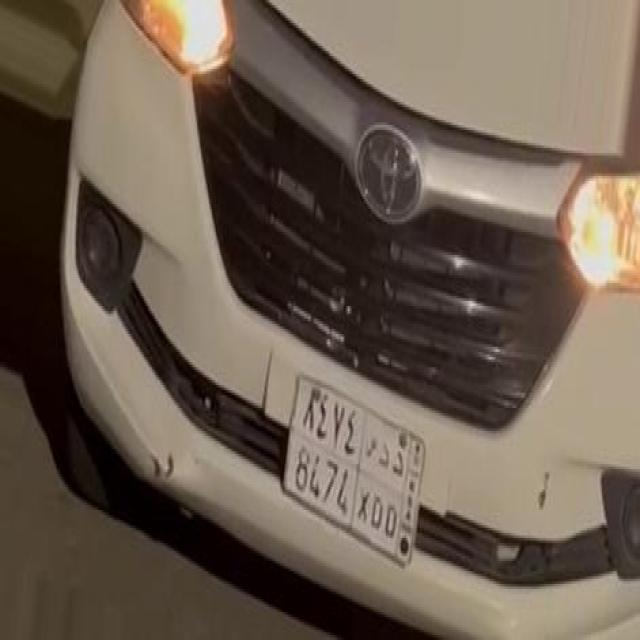Car-plate: (274, 354, 440, 583)
